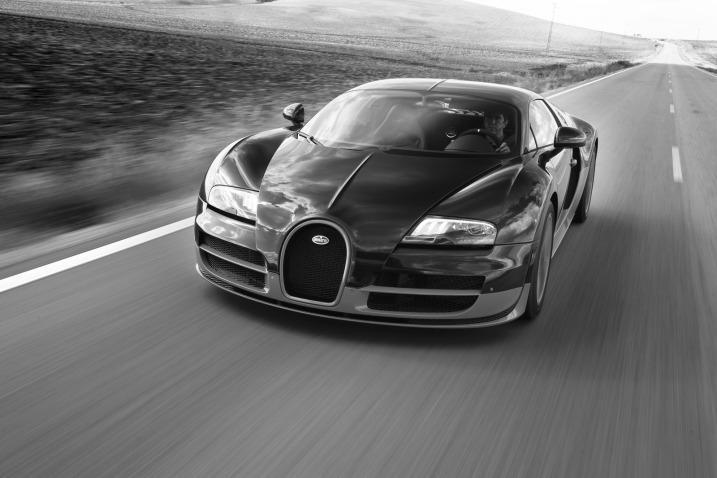car: (197, 80, 599, 339)
